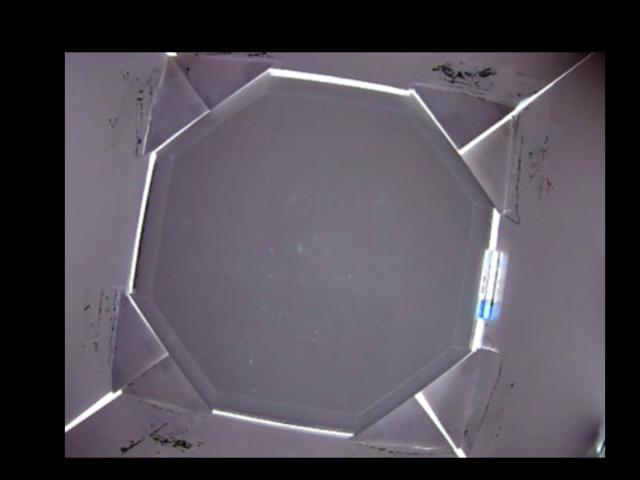Battery: (476, 249, 500, 320)
